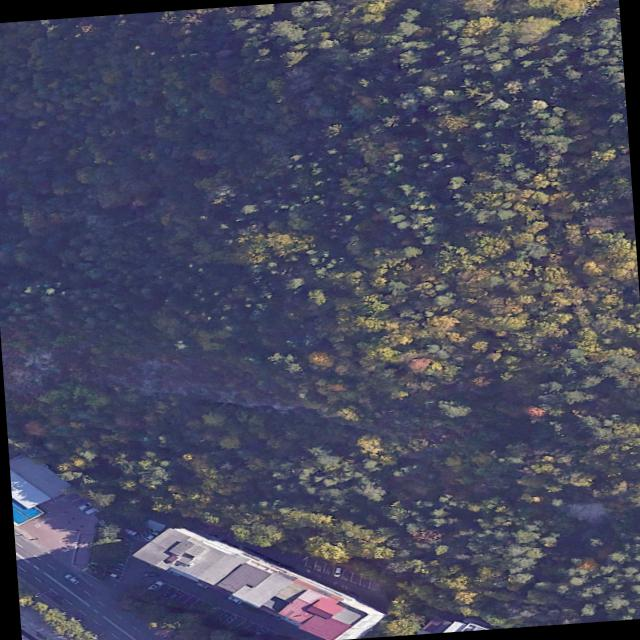building: (128, 525, 382, 640), (16, 549, 168, 640), (13, 494, 98, 568), (278, 551, 386, 608), (9, 457, 69, 506), (19, 606, 72, 640), (415, 617, 492, 634), (13, 498, 44, 524)
tree: (0, 0, 640, 627), (121, 584, 303, 640), (30, 600, 96, 640), (89, 523, 134, 578), (385, 613, 425, 635), (17, 576, 34, 599), (19, 600, 26, 604)
